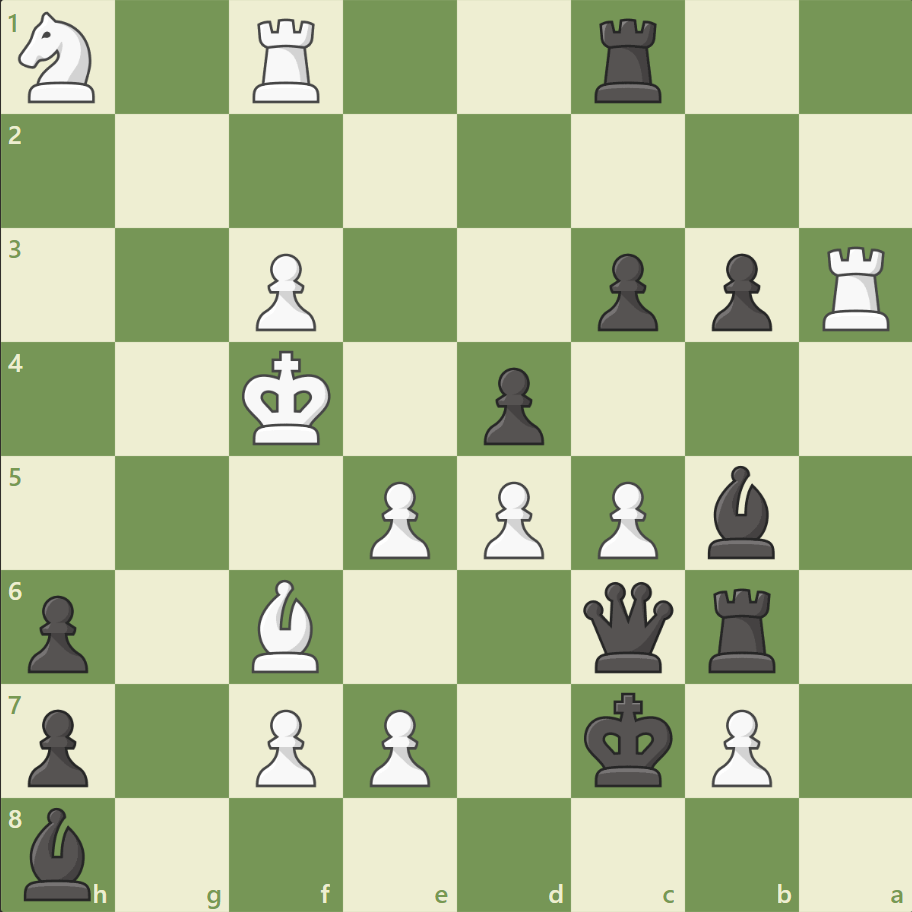B: (244, 574, 328, 676)
K: (238, 344, 338, 452)
N: (11, 7, 108, 110)
P: (701, 700, 776, 791), (247, 700, 322, 791), (474, 473, 549, 564), (247, 246, 322, 337), (361, 700, 435, 791), (588, 473, 662, 564), (361, 473, 435, 564)
R: (814, 239, 897, 336), (246, 12, 329, 109)
b: (17, 801, 101, 904), (698, 460, 782, 563)
k: (579, 685, 679, 793)
p: (20, 700, 95, 791), (20, 586, 95, 677), (474, 359, 549, 450), (701, 246, 776, 337), (588, 246, 662, 337)
q: (578, 576, 677, 676)
r: (700, 579, 783, 676), (587, 12, 670, 109)
